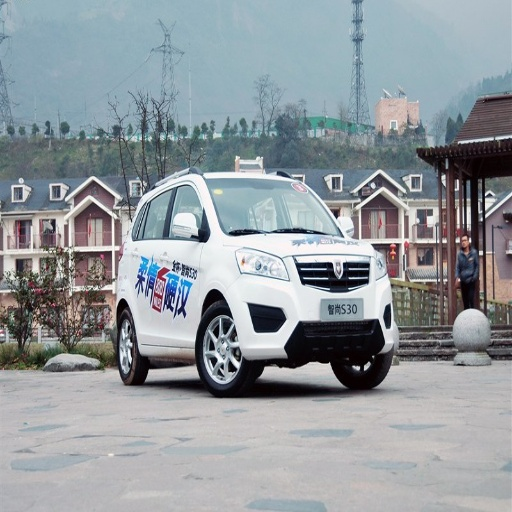front_bumper: (233, 251, 392, 358)
front_right_door: (156, 180, 206, 344)
front_right_light: (237, 251, 290, 281)
